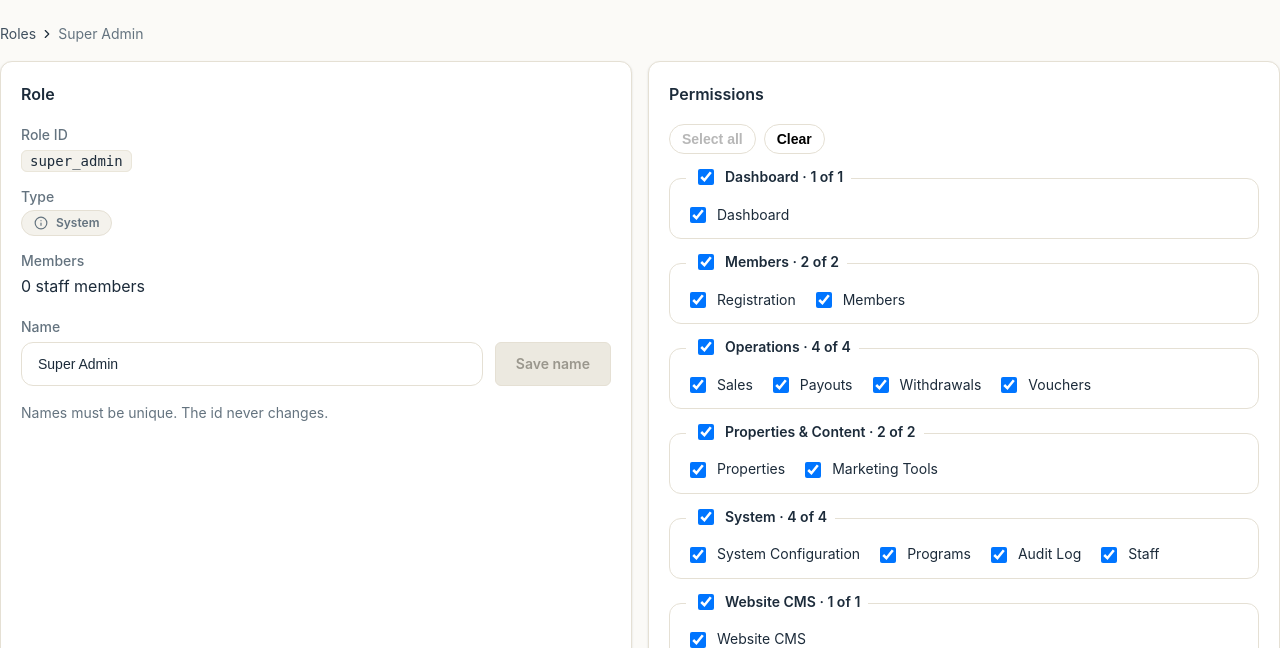
Scenario: RoleDetailPage › blocks stripping your own governance access
The image size is (1280, 648).
Step 1. Click the checkbox labelled "Staff" → (1109, 555), box [1101,547,1117,563]
(page scrolled)
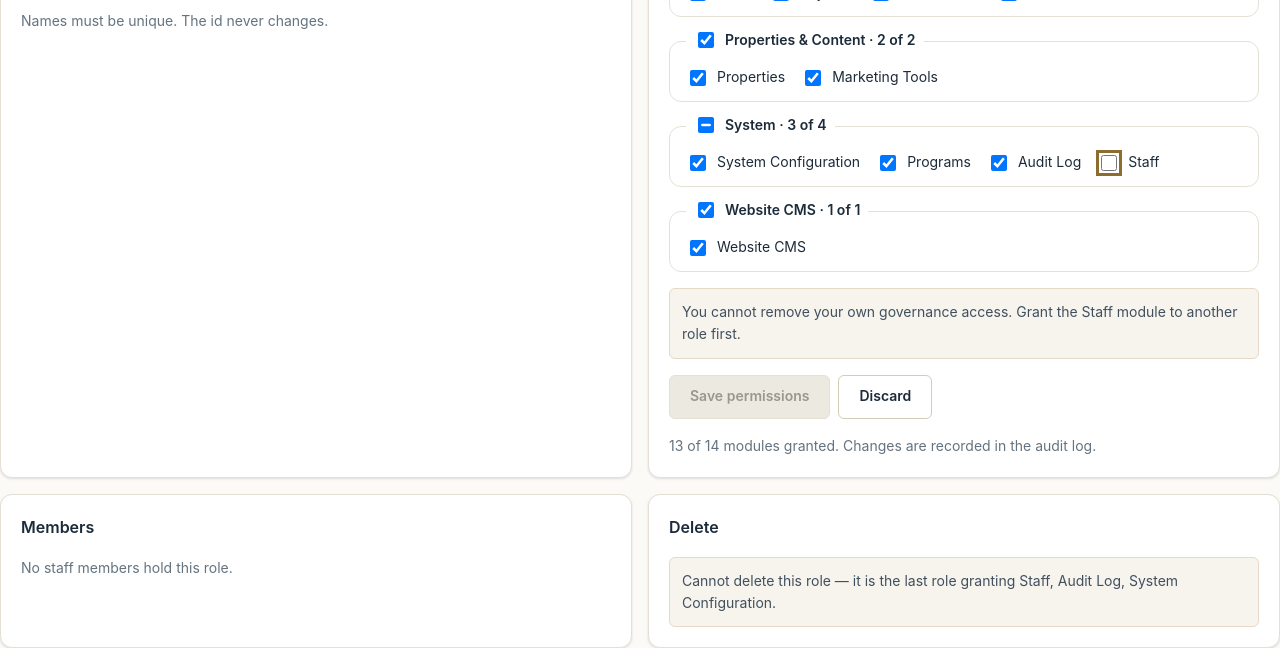
Result: the text "remove your own governance access" is shown at [682,303,1238,342]
